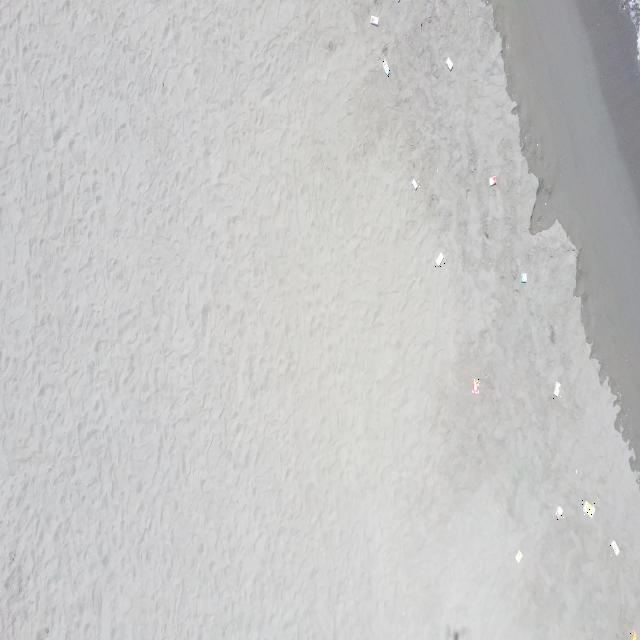Garbage: (582, 500, 593, 516), (609, 540, 619, 555), (552, 380, 560, 396), (444, 56, 452, 70), (472, 377, 479, 393), (435, 253, 443, 266), (555, 506, 563, 519), (382, 60, 388, 75), (515, 550, 522, 562), (520, 272, 527, 283), (369, 15, 377, 24), (488, 176, 495, 186), (412, 178, 417, 188), (630, 631, 636, 639)
